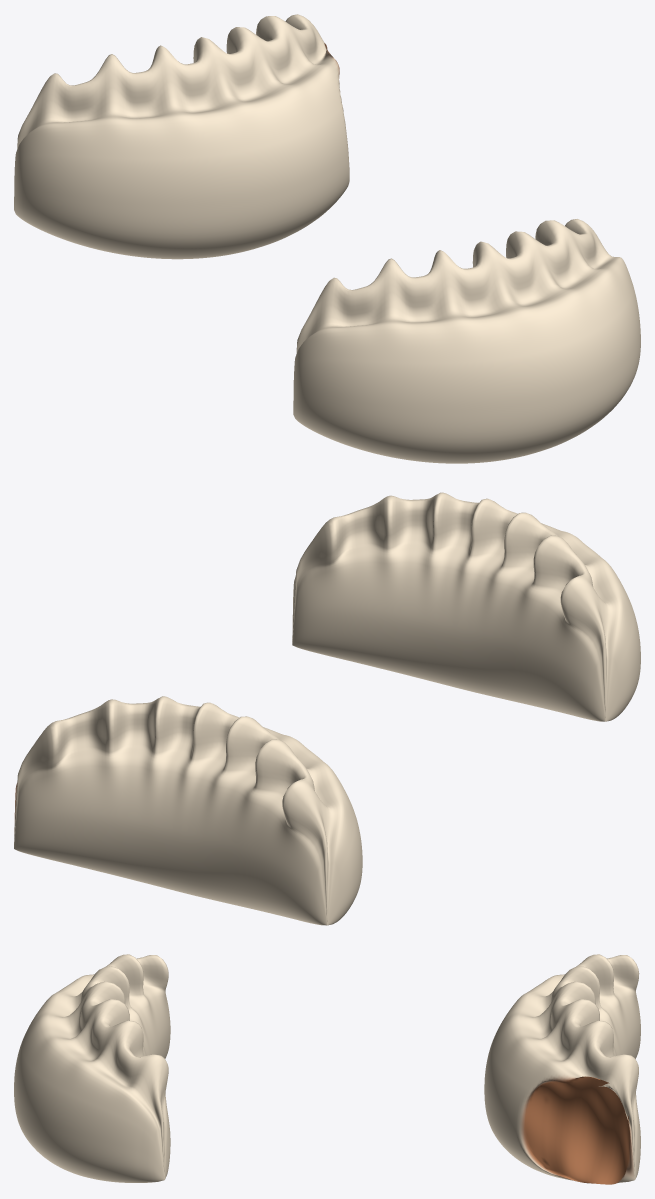
Rendered from jiaozi.glb.
The picture shows the model from 3 angles, top to bottom: view 1: azimuth 30°, elevation 25°; view 2: azimuth 150°, elevation 25°; view 3: azimuth 270°, elevation 25°; orthographic projection. The views are drawn at different scales.
Visible parts, largest first — view 1: JiaoziBody, JiaoziBitten; view 2: JiaoziBody, JiaoziBitten; view 3: JiaoziBitten, JiaoziBody.
Part boxes in pixels (x1,y1,x2,y2): JiaoziBody: (293,219,640,463); JiaoziBitten: (14,14,349,259); JiaoziBody: (292,492,640,721); JiaoziBitten: (14,696,362,925); JiaoziBitten: (484,954,640,1184); JiaoziBody: (14,954,170,1182).
Size of the model in its own units: 0.6829 by 0.3764 by 1.33.
